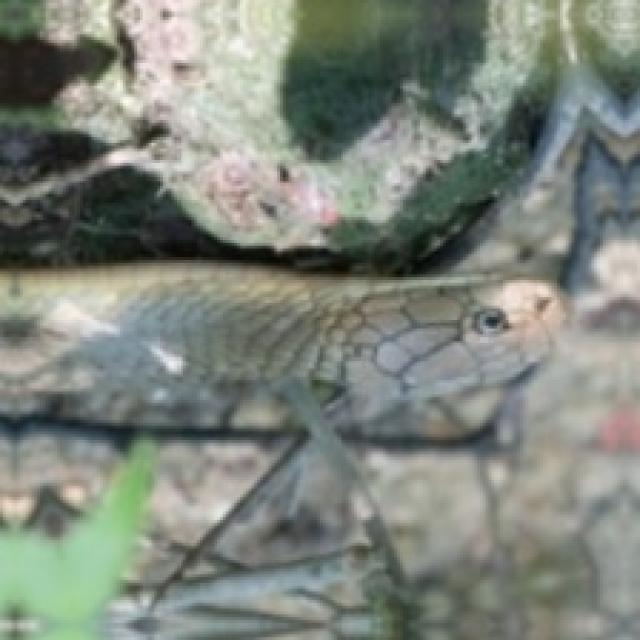king cobra: (0, 263, 563, 637), (0, 263, 563, 437)
